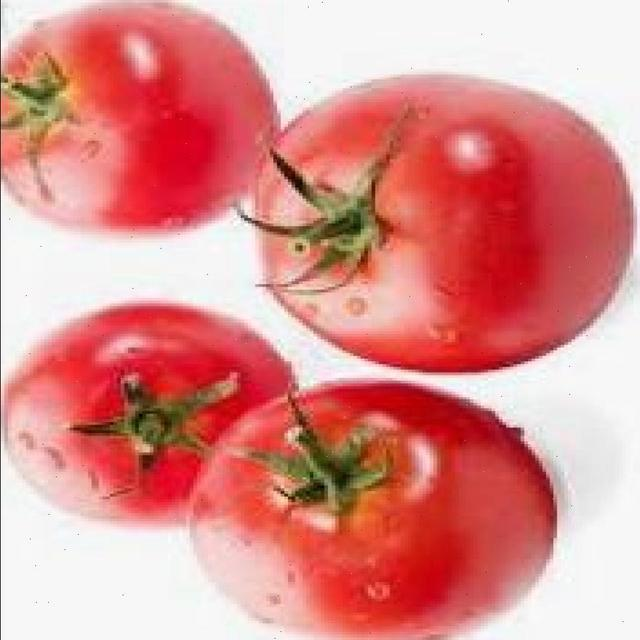Healthy Fruit: (93, 81, 293, 340)
